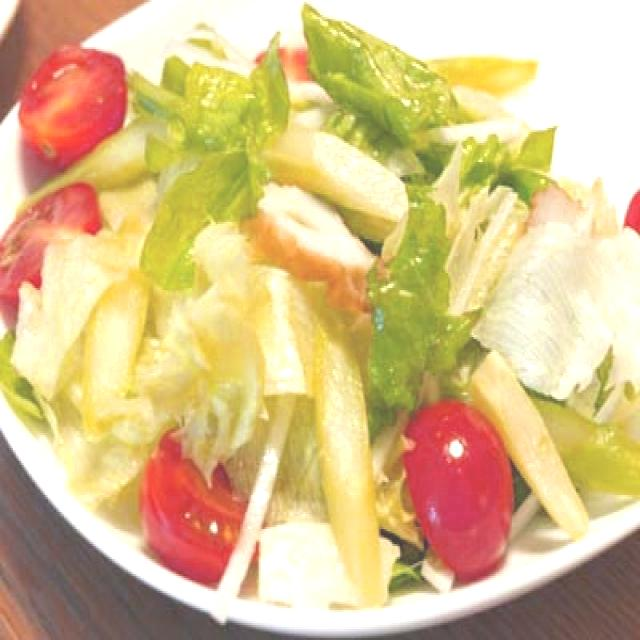Green Salad: (32, 38, 638, 552)
